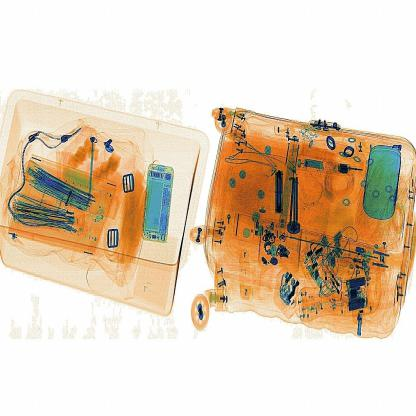scissors: (268, 166, 289, 215)
